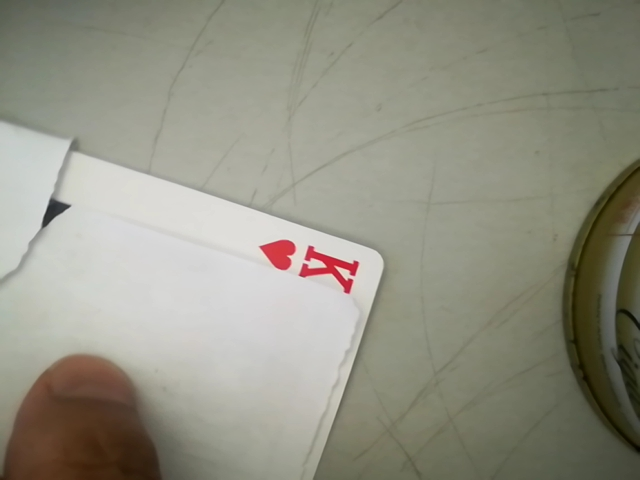hx k: (253, 235, 368, 294)
